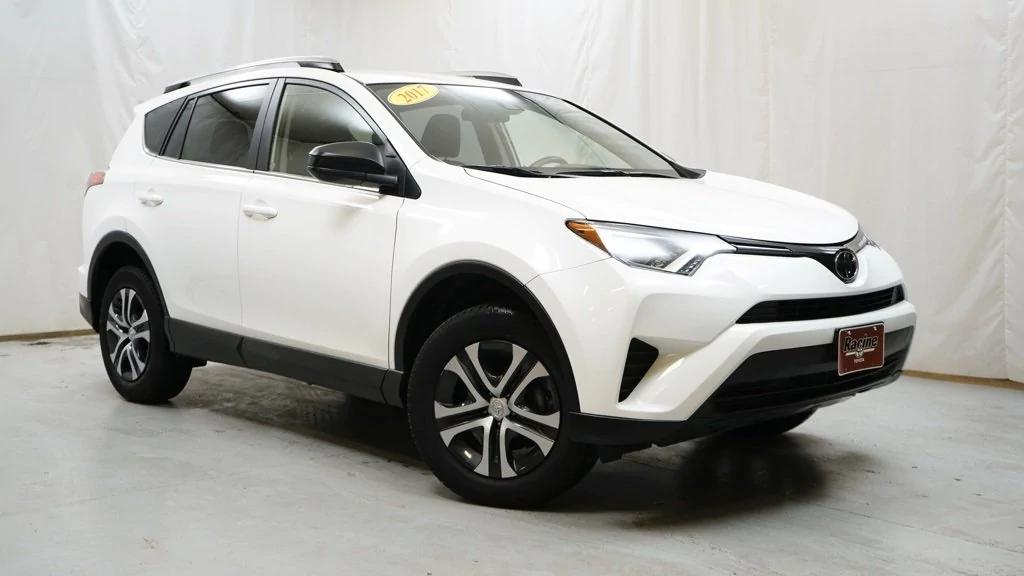Toyota RAV-4: (74, 66, 917, 508)
